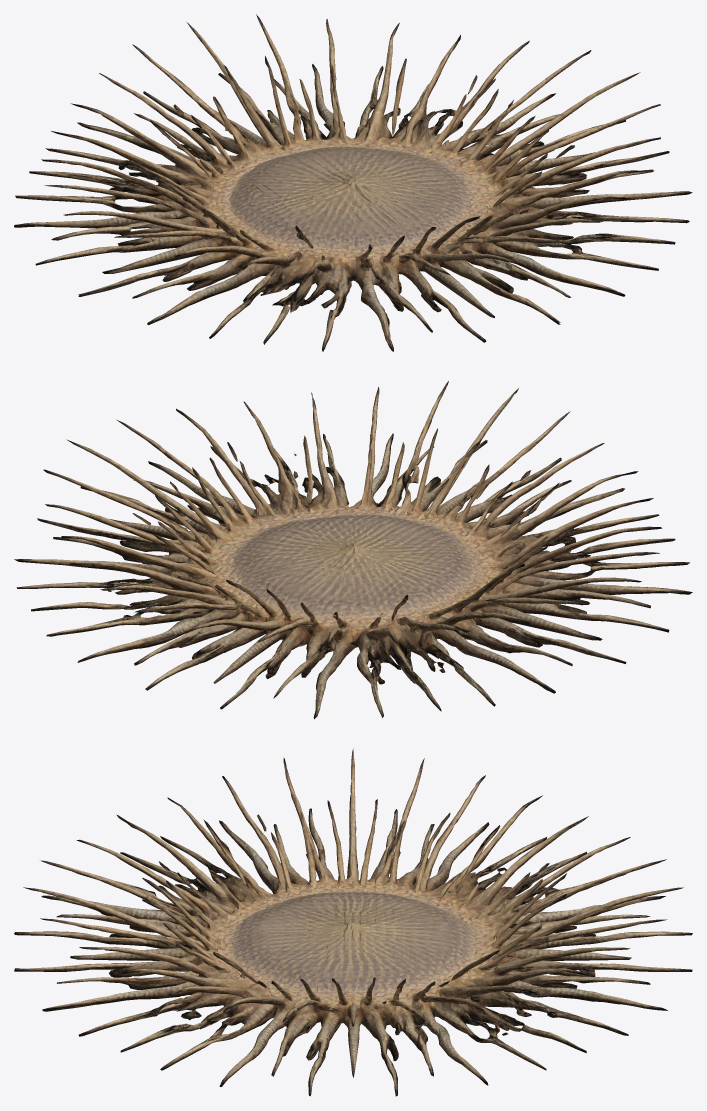
3 views of the same model, one above another, from view 1: azimuth 30°, elevation 25°; view 2: azimuth 150°, elevation 25°; view 3: azimuth 270°, elevation 25° (orthographic).
Parts seen in each view (by area): view 1: world; view 2: world; view 3: world.
Boxes of the visible parts, x1,y1,x2,y2 form: world: [14, 14, 692, 351]; world: [14, 381, 692, 719]; world: [14, 748, 692, 1096].
Size of the model in its own units: 0.999 by 0.1433 by 1.
2 materials, 2 textured.
